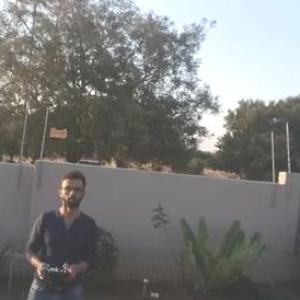follow: (20, 165, 102, 299)
